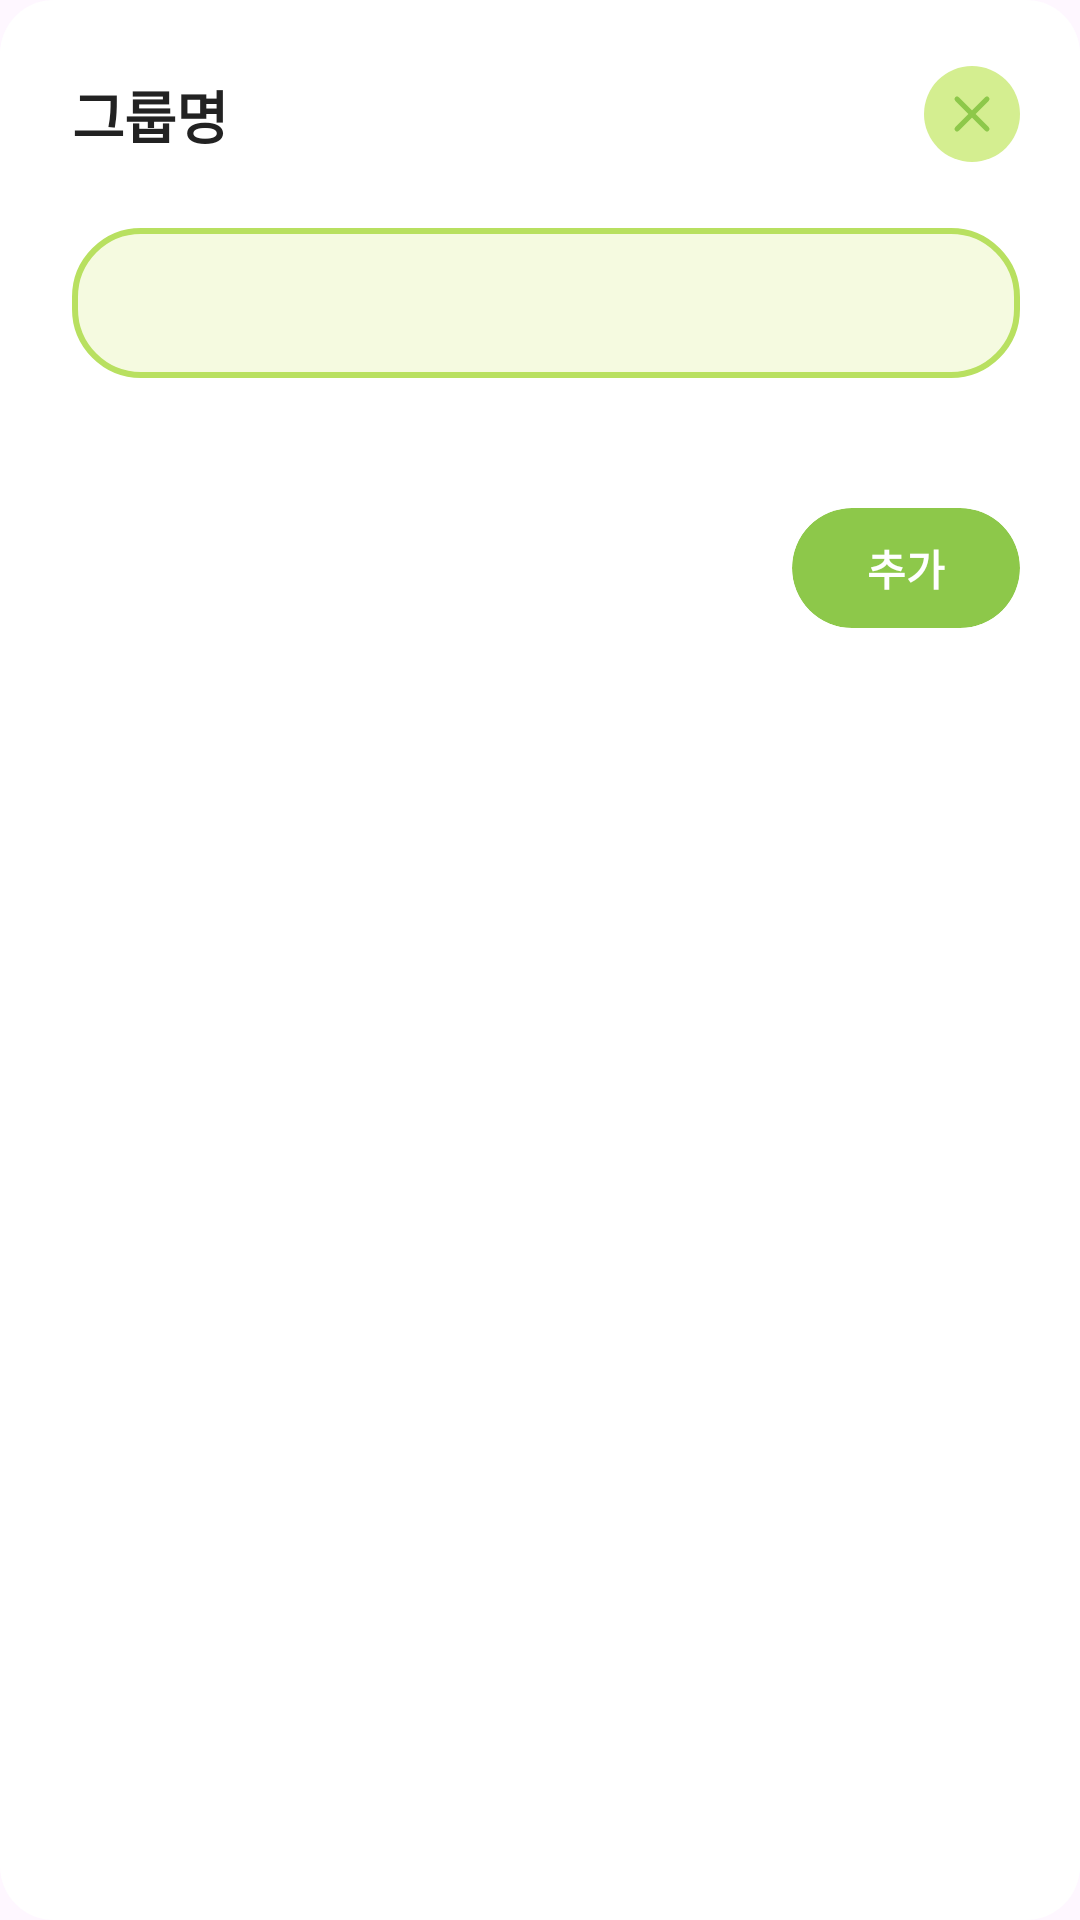

Named icons in this screenshot (1080 x 1920) and their centers, [x,y]:
닫기: [972,114]
